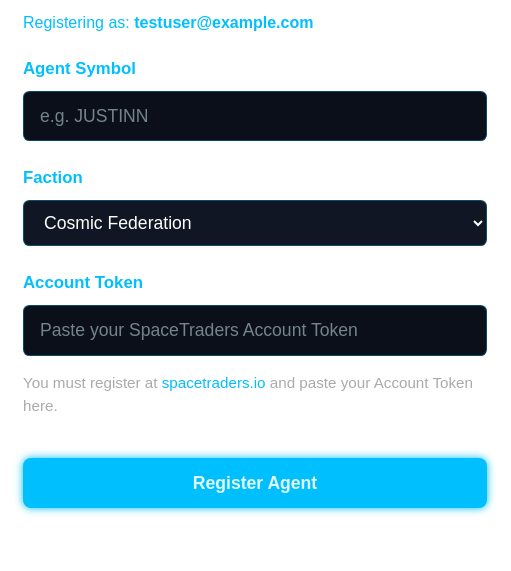
Test: RegisterAgentForm › shows error message from API
This screenshot has width=511, height=571.
Type "AGENT" into the field labelled "Agent Symbol". click: (255, 116)
box: x1=23 y1=91 x2=487 y2=141
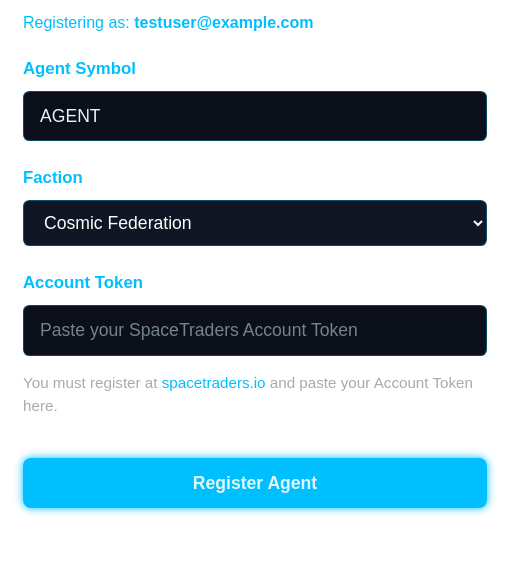
Type "token" into the field labelled "Account Token". click: (255, 331)
box: x1=23 y1=305 x2=487 y2=356
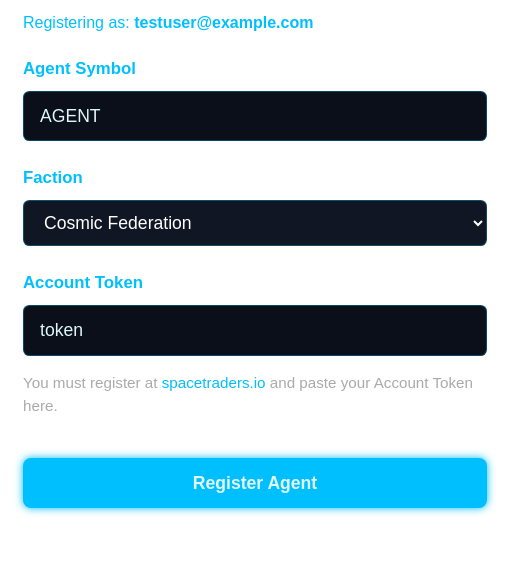
Click the button "Register Agent". click: (255, 483)
box: x1=23 y1=458 x2=487 y2=508
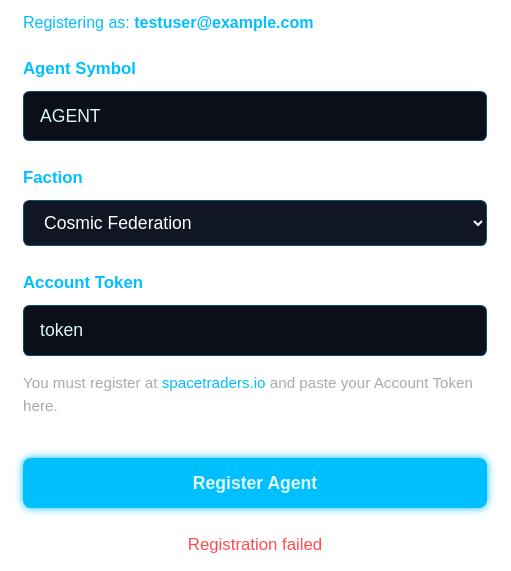
Check: the text "Registration failed" is shown, box x1=188 y1=535 x2=322 y2=554
